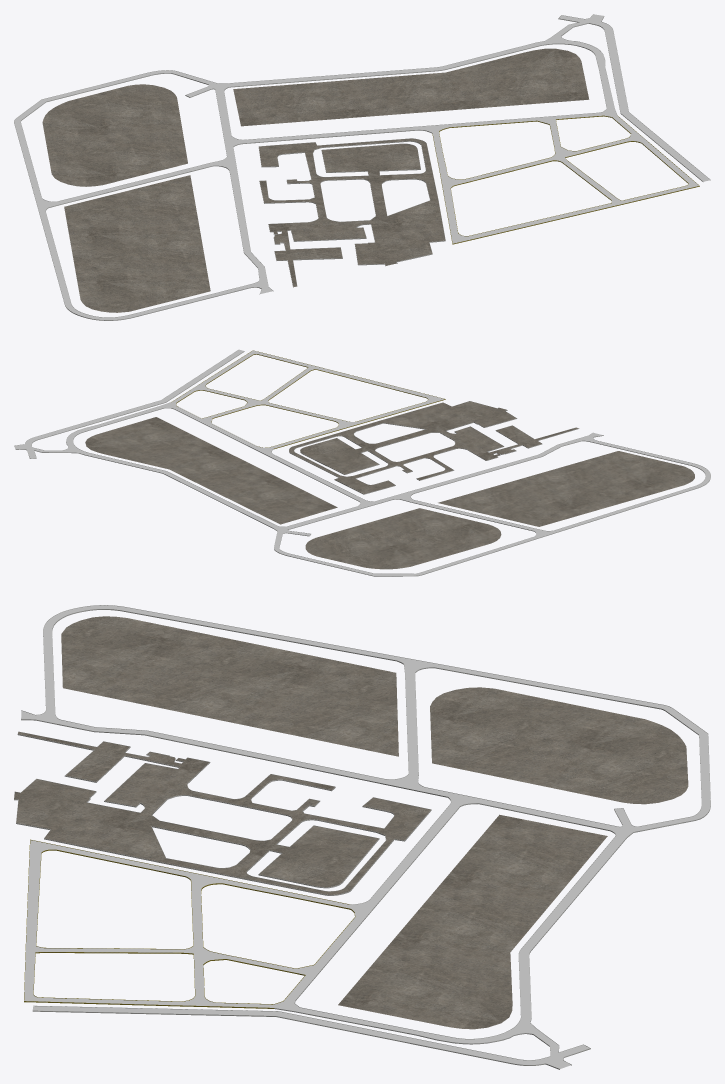
File: road_p10_03.fbx
3 renders of one model, top to bottom at view 1: azimuth 30°, elevation 25°; view 2: azimuth 150°, elevation 25°; view 3: azimuth 270°, elevation 25°, orthographic. The views are drawn at different scales.
Visible parts, largest first — view 1: road_p10_03; view 2: road_p10_03; view 3: road_p10_03.
Part boxes in pixels (x1,y1,x2,y2): road_p10_03: (14,14,710,320); road_p10_03: (14,349,710,576); road_p10_03: (14,605,710,1069).
Size of the model in its own units: 73502 by 70.17 by 46661.
